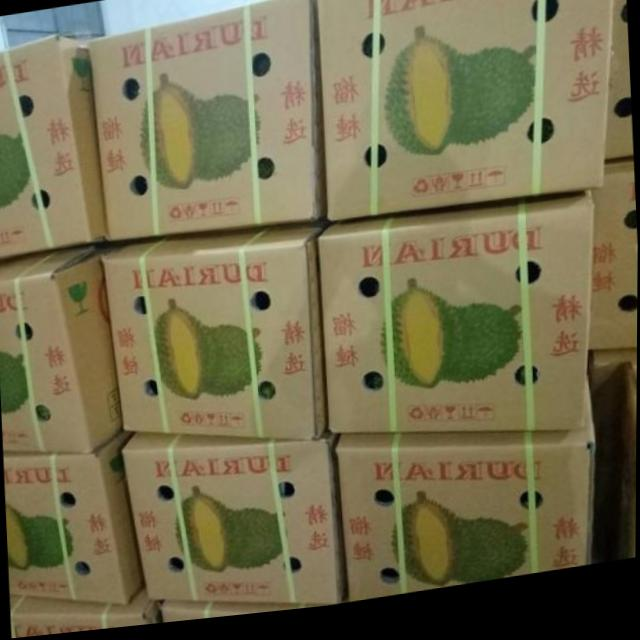box: (320, 199, 599, 442), (314, 0, 612, 226), (87, 0, 327, 244), (335, 391, 599, 608), (102, 227, 329, 444), (122, 435, 348, 609), (0, 242, 124, 455), (0, 35, 112, 258), (5, 435, 146, 606), (592, 361, 638, 574), (589, 168, 638, 364), (12, 588, 163, 639), (606, 0, 634, 173), (163, 602, 345, 626)
